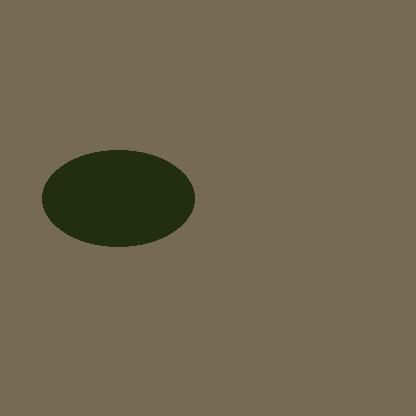pothole: (42, 150, 194, 246)
